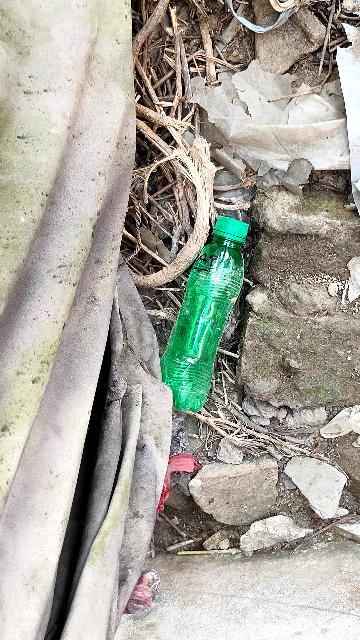bottle: (150, 214, 275, 410)
